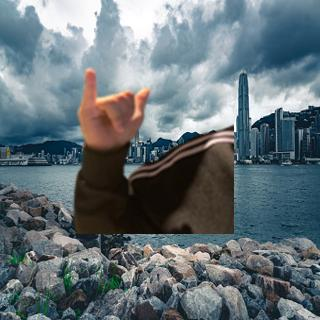HAVE: (69, 61, 157, 153)
